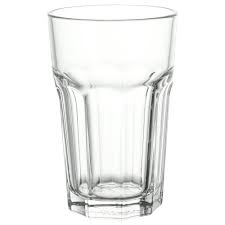glass: (43, 1, 181, 223)
